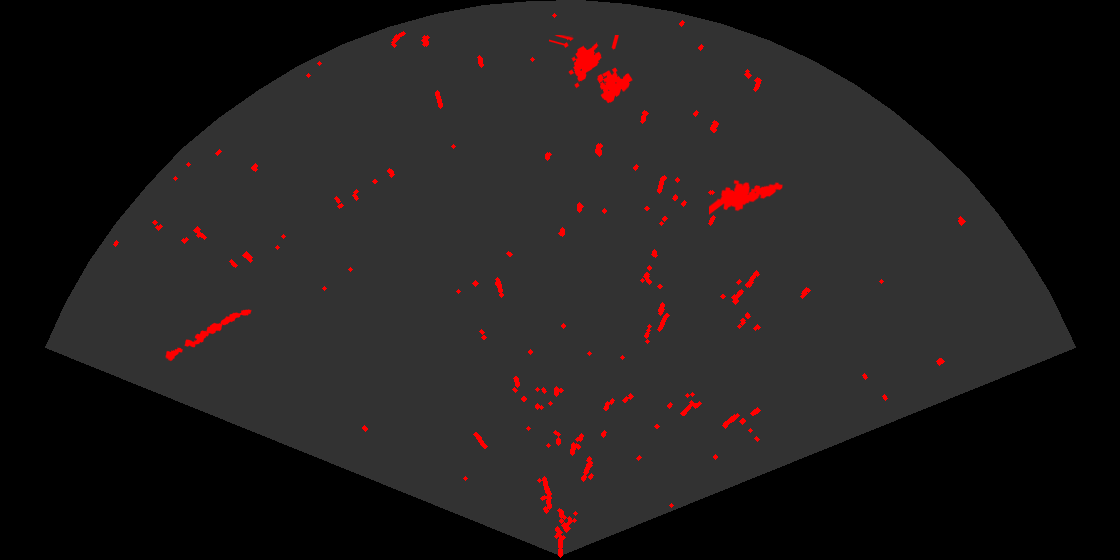cage: (549, 35, 634, 105)
chain: (164, 308, 253, 363)
frogman: (709, 178, 785, 217)
